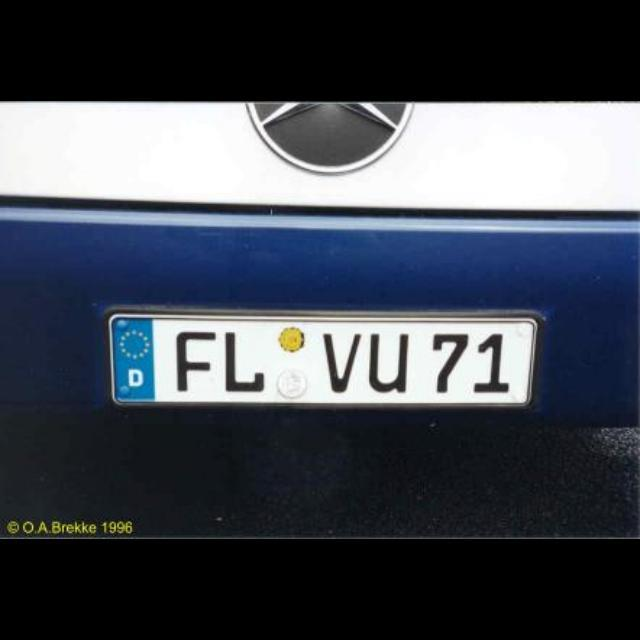license-plates: (108, 313, 540, 408)
